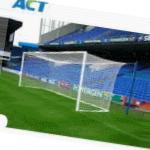goals: (17, 49, 121, 115)
